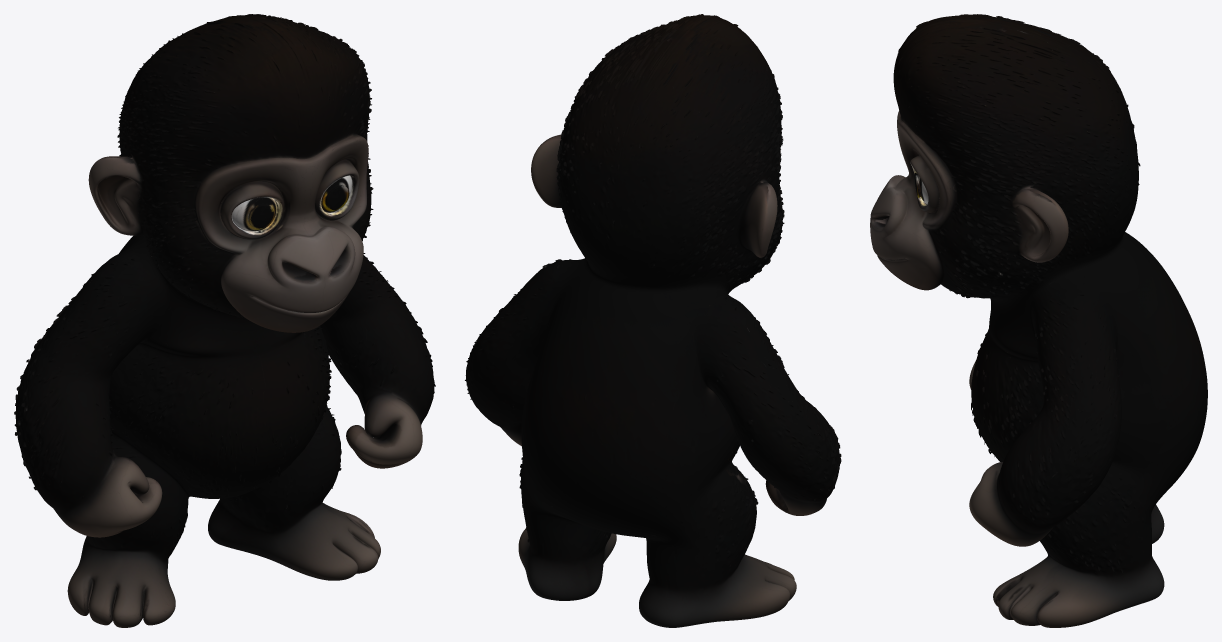
Rendered from modelkuranggg.glb.
The picture shows the model from 3 angles, left to right: view 1: azimuth 30°, elevation 25°; view 2: azimuth 150°, elevation 25°; view 3: azimuth 270°, elevation 25°; orthographic projection. The views are drawn at different scales.
Parts seen in each view (by area): view 1: texture_pbr_v128; view 2: texture_pbr_v128; view 3: texture_pbr_v128.
Boxes of the visible parts, x1,y1,x2,y2 form: texture_pbr_v128: (14,14,435,627); texture_pbr_v128: (465,14,841,627); texture_pbr_v128: (870,14,1207,627).
Size of the model in its own units: 0.7633 by 1.08 by 0.6013.
Materials: 1 (1 with a texture image).
